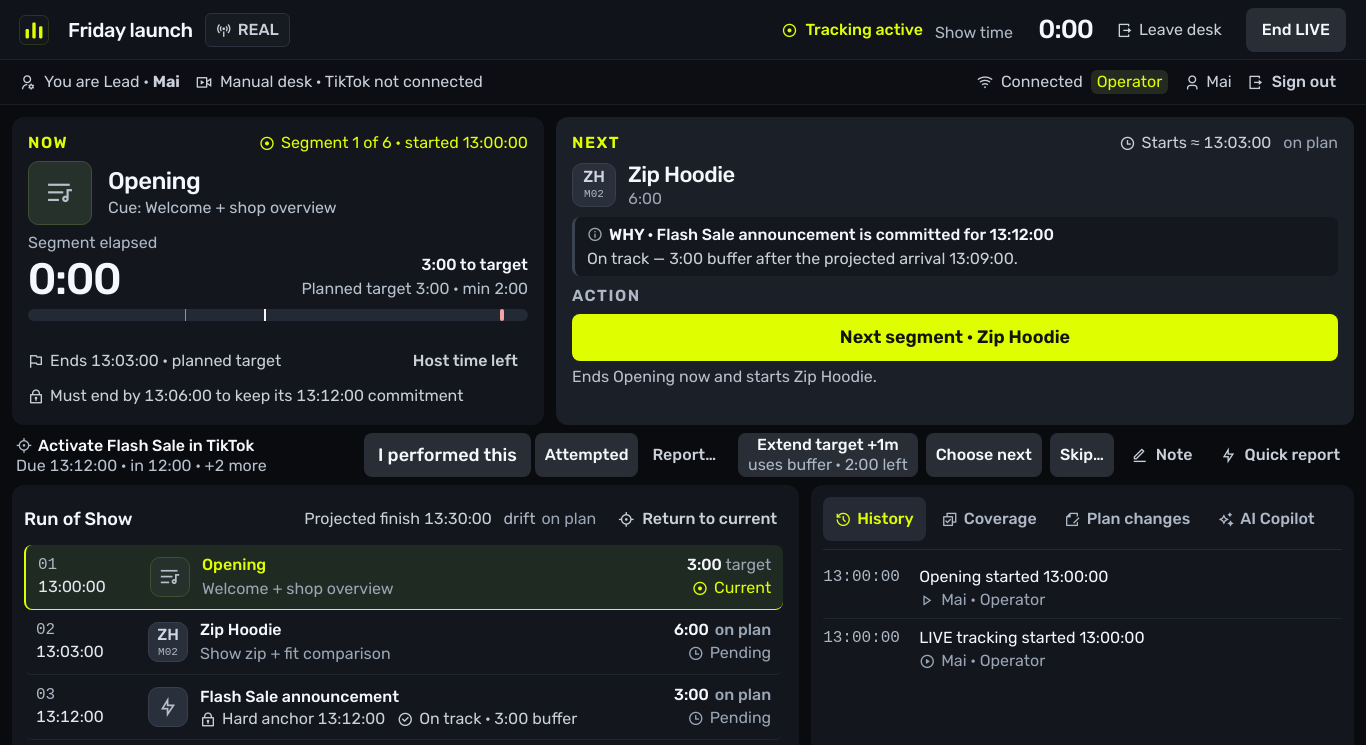
Test: REAL Operate: operator › keeps the dialog and the typed text when the room rejects the command
Click the button with test id "quick-add-note-btn" at point(1162, 455), box [1122,433,1203,477]
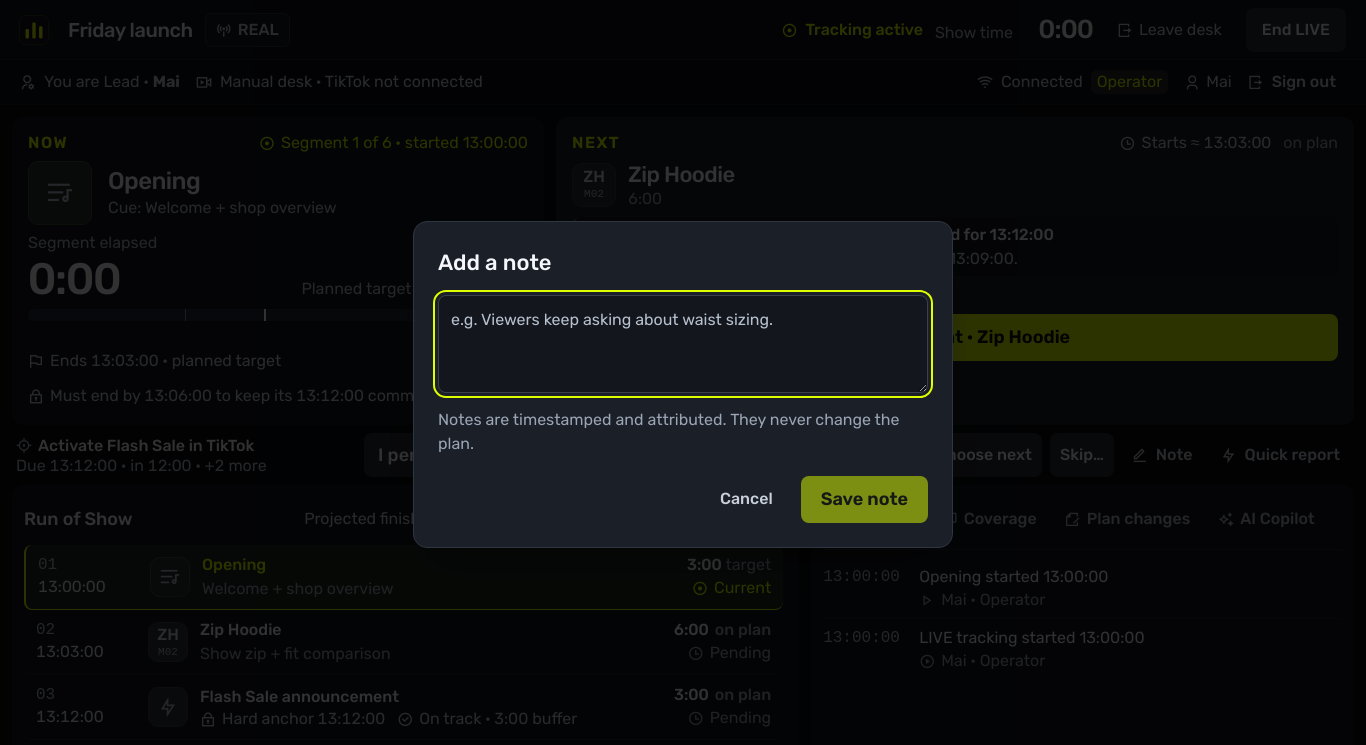
Type "keep me" into the text box with test id "note-input" at point(683, 344), box [438,294,928,392]
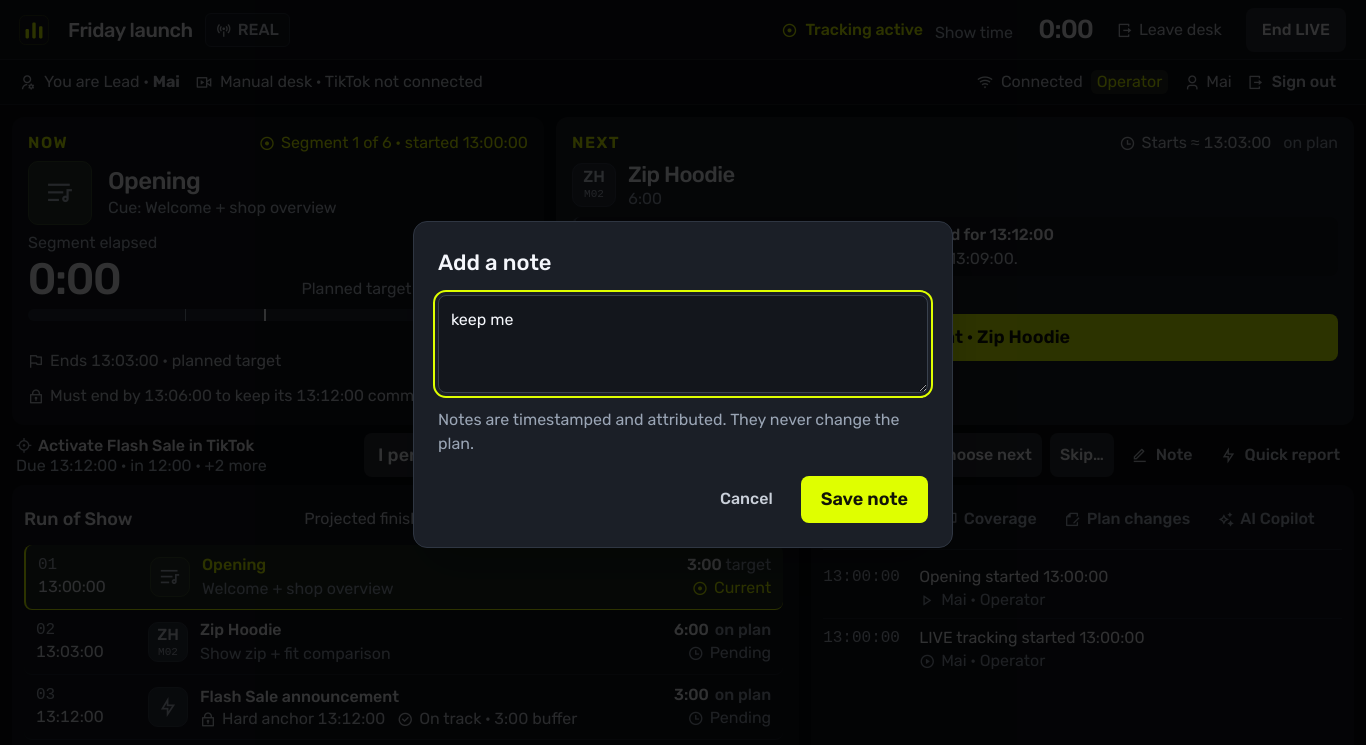
Click the button "Save note" at point(864, 499), box [801,476,928,522]
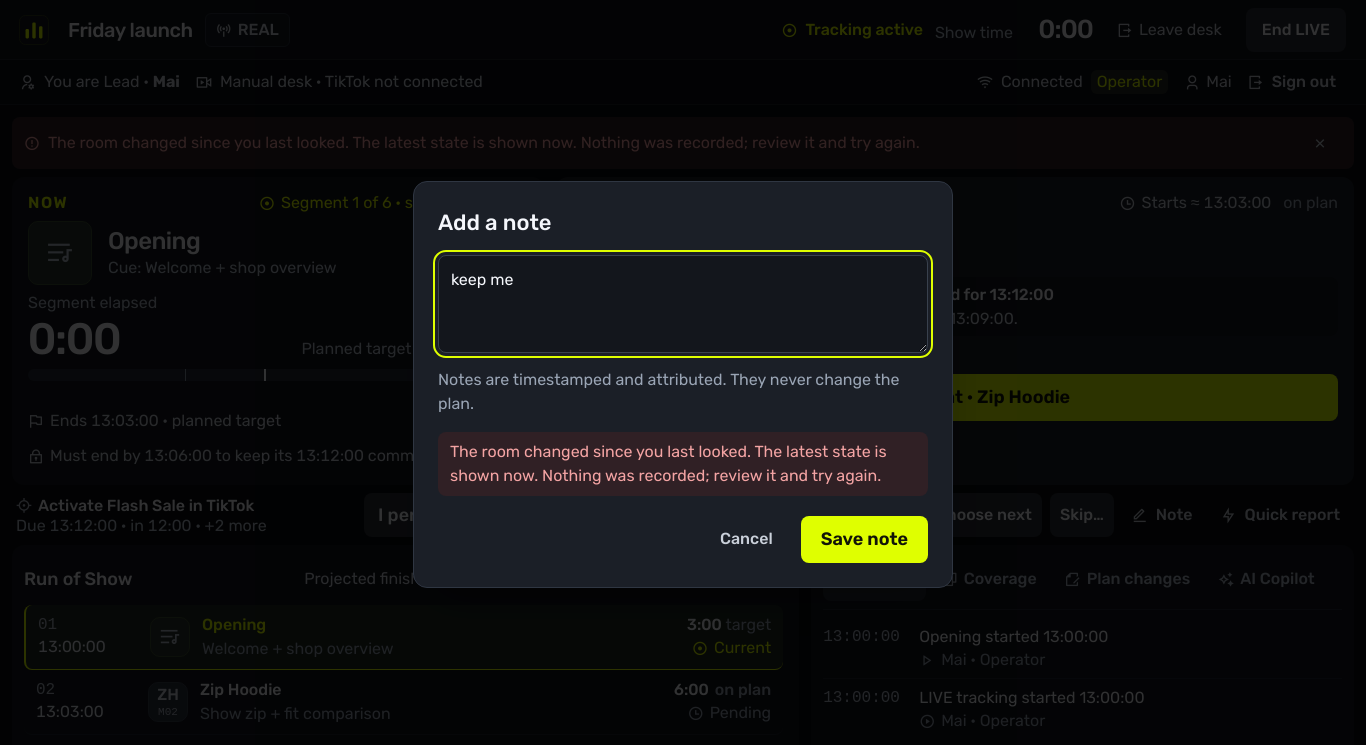
Check: the text with test id "dialog-command-error" shows "room changed", box [450,442,887,484]
